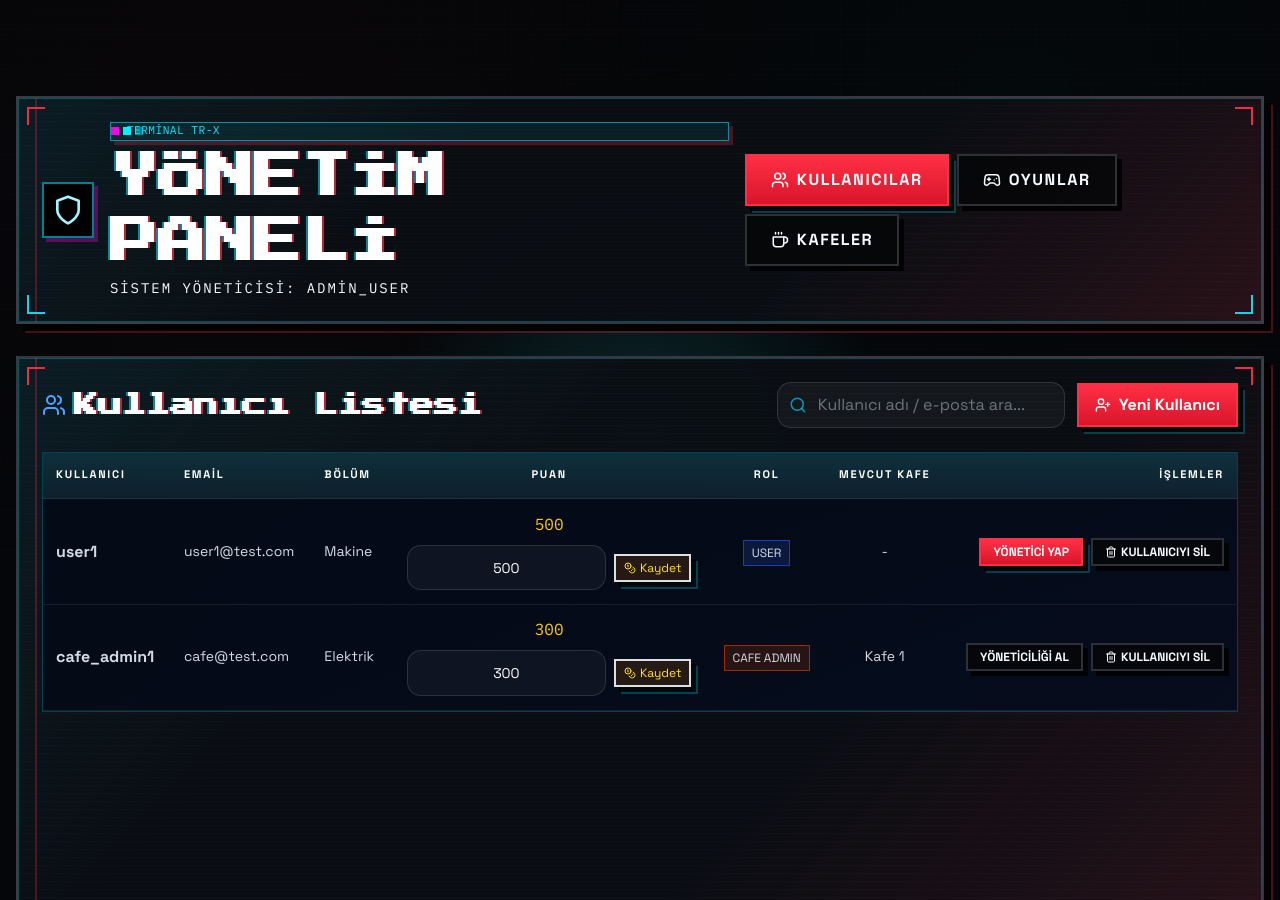
Test: AdminDashboard › filters users by search term
The width and height of the screenshot is (1280, 900).
expect the text "user1" is shown: met, box [43, 499, 171, 605]
Type "cafe" into the field with placeholder "Kullanıcı adı / e-posta ara...".
click(921, 405); type("cafe")  # box [777, 382, 1065, 428]
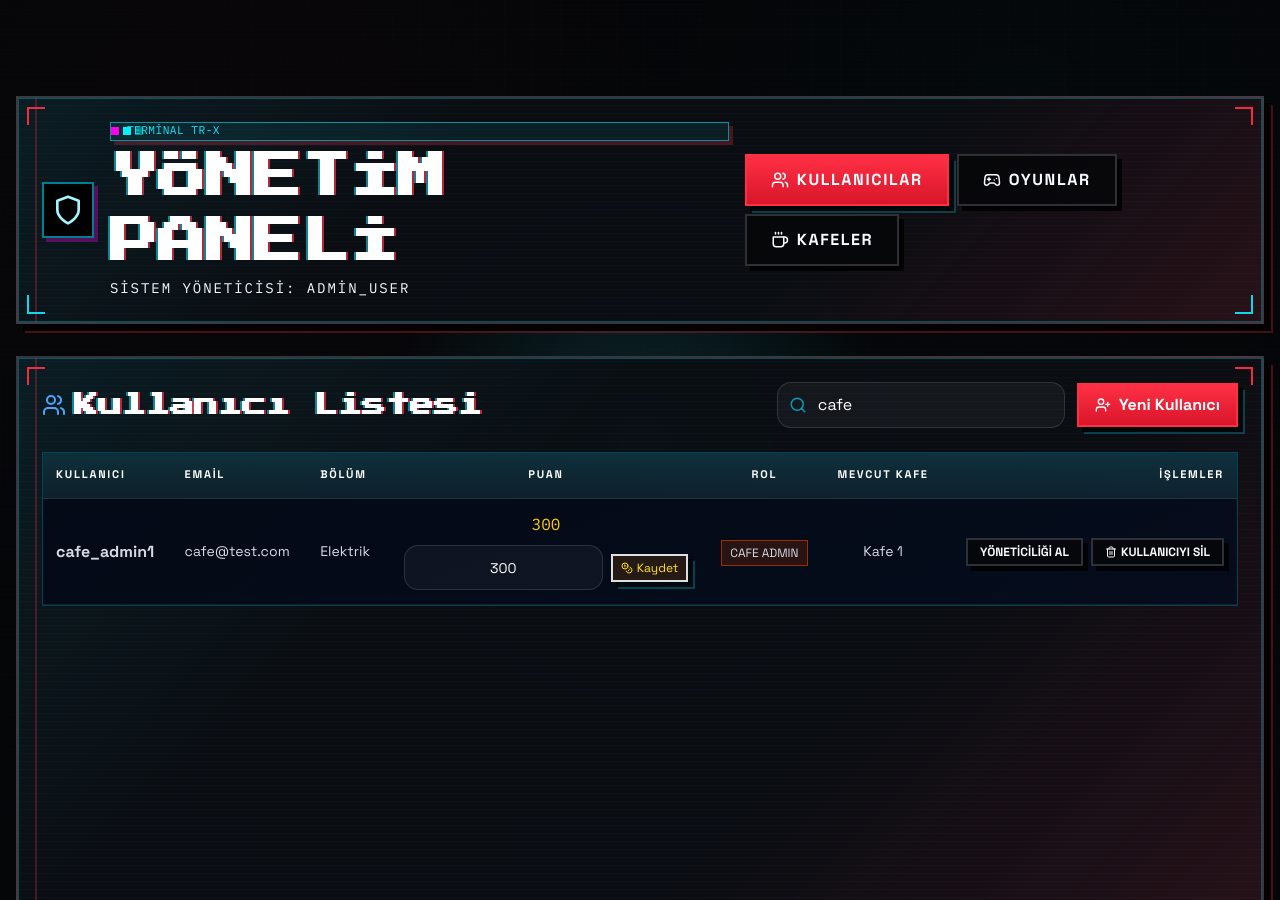
expect the text "cafe_admin1" is shown: met, box [43, 499, 172, 605]
expect the text "user1" is gone: met
